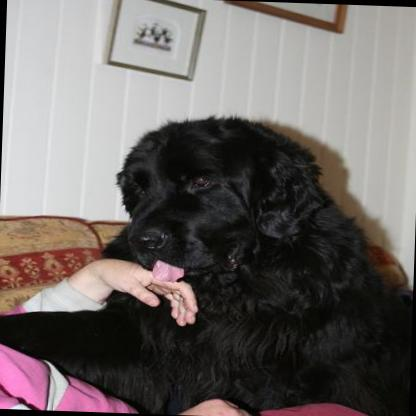Newfoundland: (0, 97, 414, 416)
